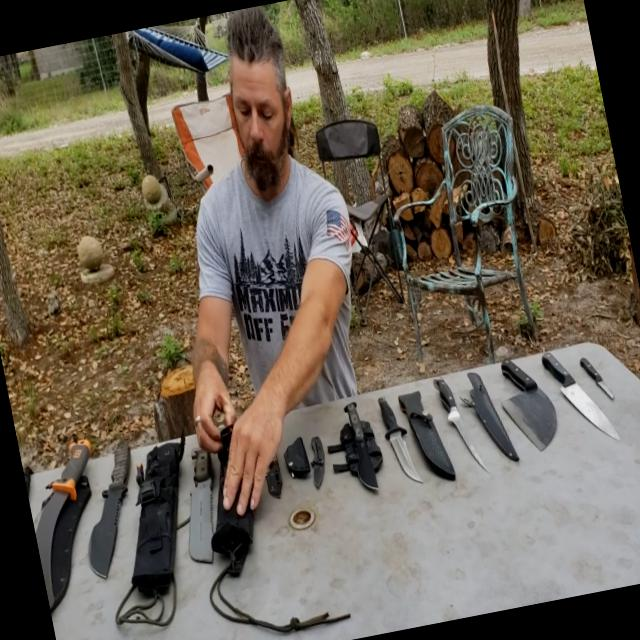knife: (16, 418, 125, 630), (66, 426, 162, 582), (530, 320, 634, 456), (163, 421, 255, 566), (424, 353, 508, 498), (488, 340, 568, 466), (331, 381, 397, 504), (362, 382, 434, 488), (252, 413, 300, 515), (298, 416, 342, 496), (572, 337, 620, 410)
